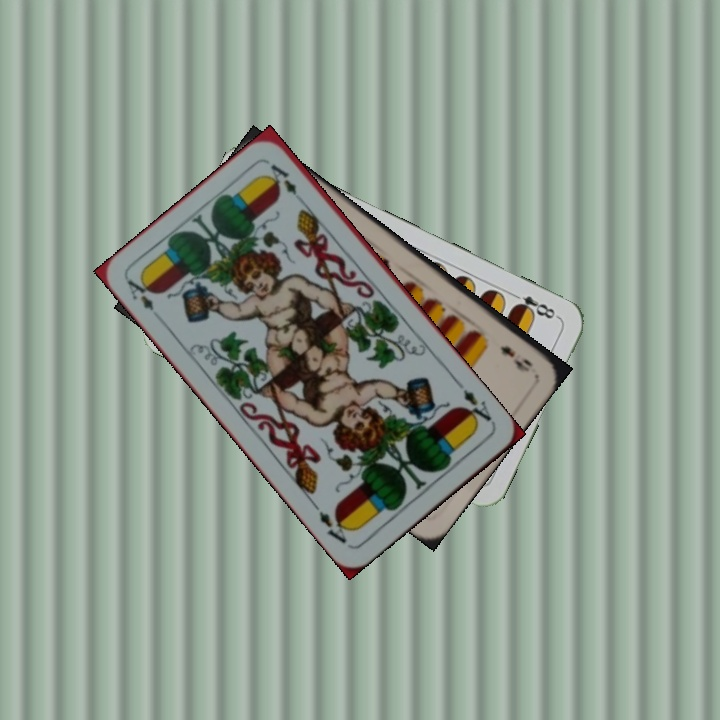E8: (506, 288, 562, 322)
E9: (496, 341, 536, 375)
EA: (457, 385, 497, 428), (122, 273, 158, 314)
